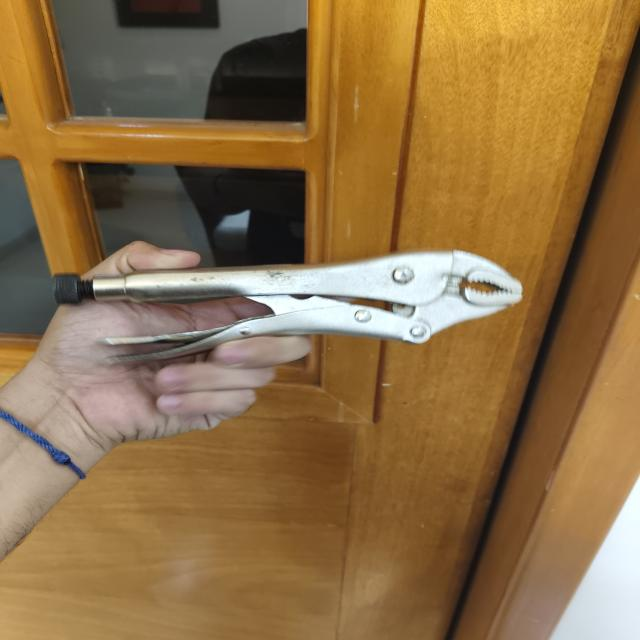PinzasPresion: (41, 209, 542, 432)
